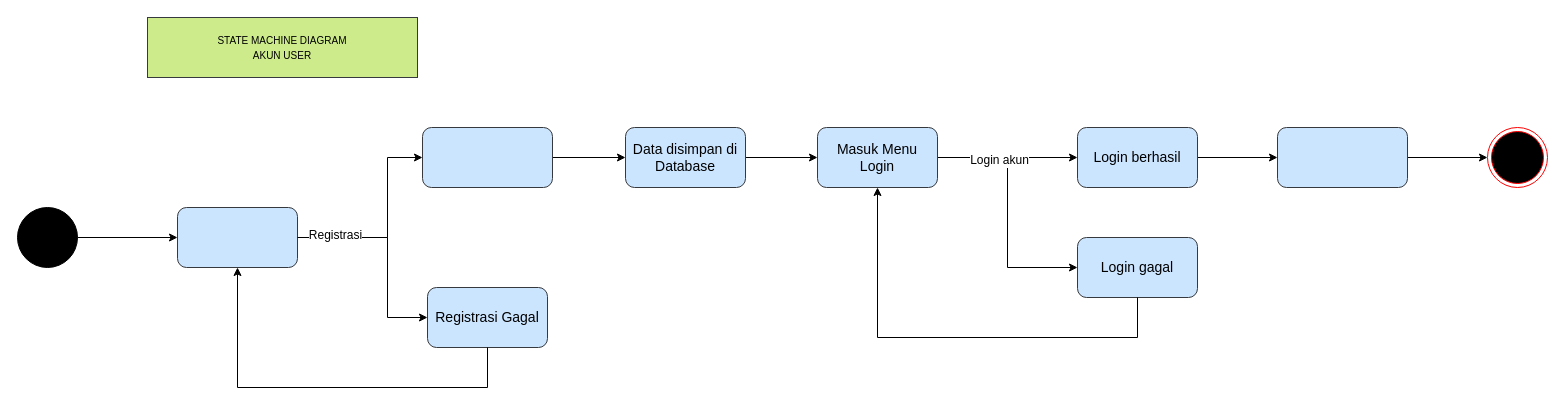
Image size: 1565x413. Some labels were removed from this diagram. Here are the shapes that lost their labels. From the top down, the centre of each, then its label:
At [487,157]: "Registrasi Berhasil".
At [1342,157]: "Masuk Dashboard".
At [237,237]: "Belum Terdaftar".
